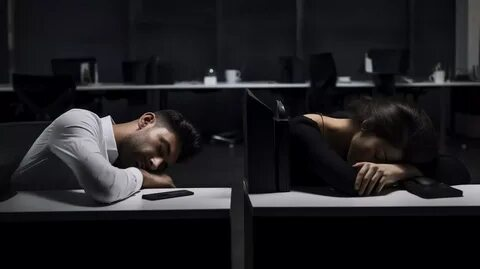sleep: (11, 107, 202, 203), (287, 103, 444, 198)
